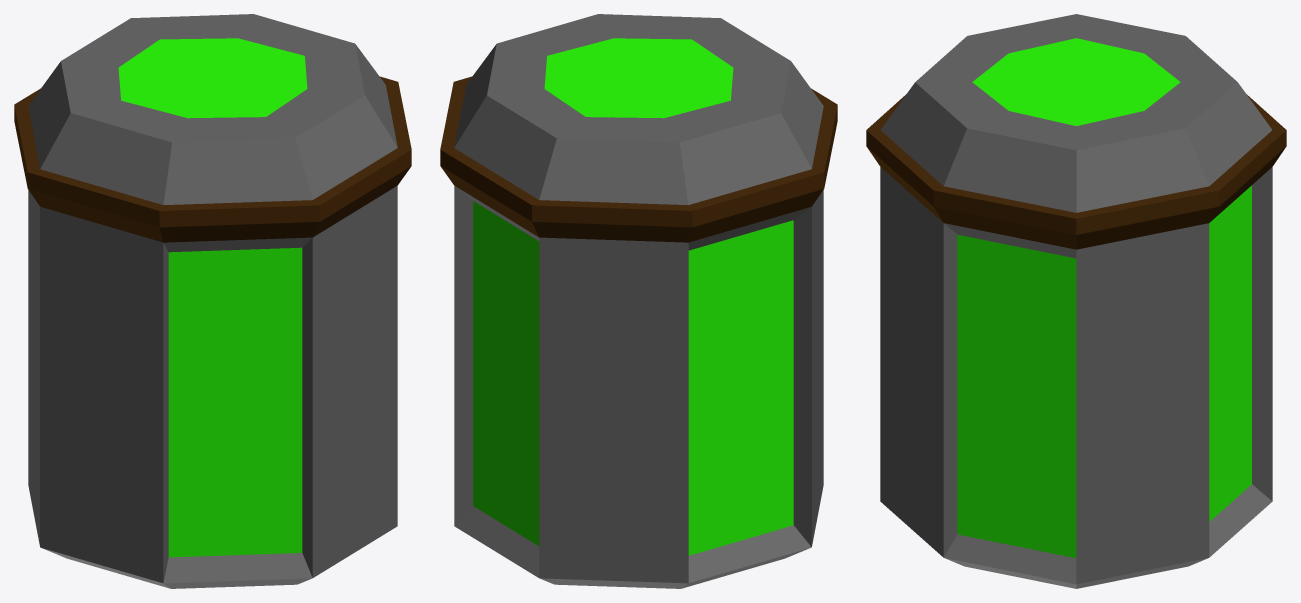
Rendered from Props_LoadingBay_GreenBox.fbx.
3 renders of one model, left to right at view 1: azimuth 30°, elevation 25°; view 2: azimuth 150°, elevation 25°; view 3: azimuth 270°, elevation 25°, orthographic.
Parts seen in each view (by area): view 1: Cube; view 2: Cube; view 3: Cube.
Boxes of the visible parts, <box> form: Cube: <box>14,14,411,588</box>; Cube: <box>440,14,837,588</box>; Cube: <box>866,14,1286,588</box>.
Size of the model in its own units: 107 by 123 by 107.
